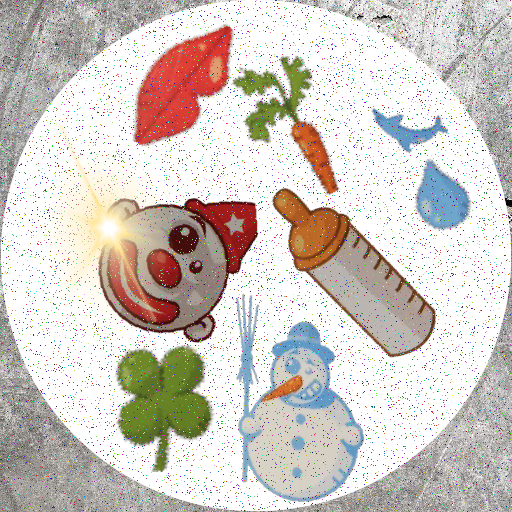bottle_icon: (243, 160, 461, 378)
carrot_icon: (222, 39, 382, 199)
cloverleaf_icon: (84, 335, 221, 472)
clown_icon: (96, 185, 260, 349)
dolphin_icon: (369, 88, 448, 167)
lips_icon: (102, 5, 251, 154)
raindrop_icon: (404, 158, 478, 232)
snowman_icon: (174, 293, 386, 505)
